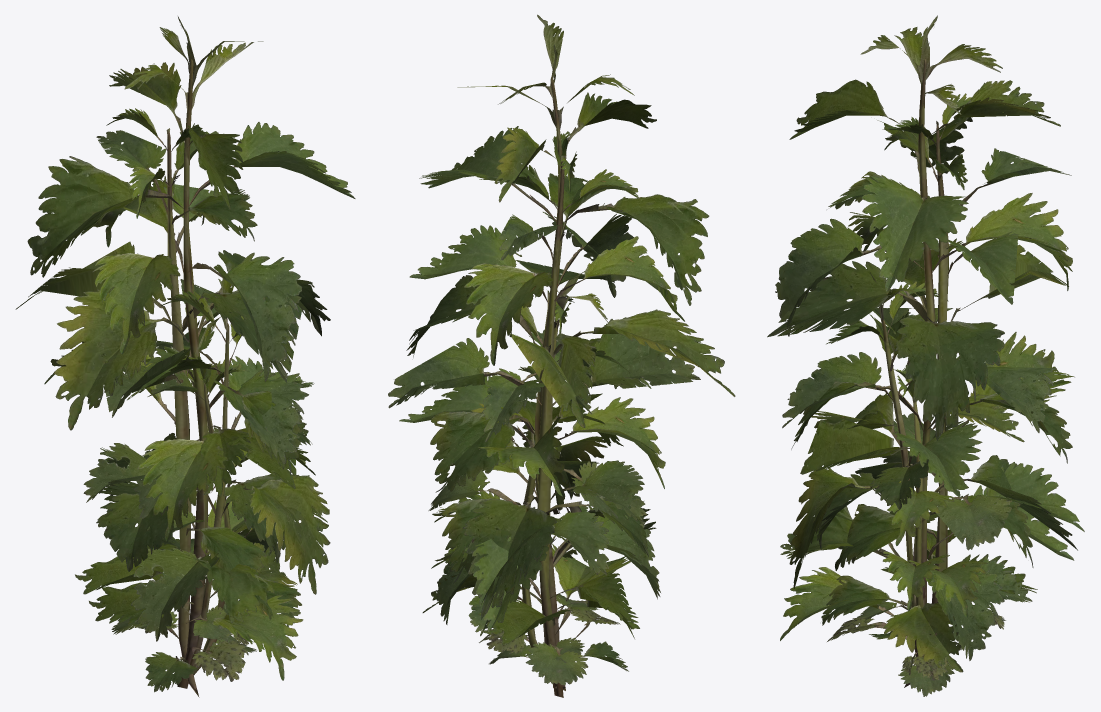
File: nettle_plant.glb
3 renders of one model, left to right at view 1: azimuth 30°, elevation 25°; view 2: azimuth 150°, elevation 25°; view 3: azimuth 270°, elevation 25°, orthographic.
Visible parts, largest first — view 1: nettle_plant_tall_a_lod0, nettle_plant_tall_b_lod0, nettle_plant_medium_a_lod0, nettle_plant_medium_b_lod0; view 2: nettle_plant_tall_a_lod0, nettle_plant_tall_b_lod0, nettle_plant_medium_a_lod0, nettle_plant_medium_b_lod0; view 3: nettle_plant_tall_a_lod0, nettle_plant_tall_b_lod0, nettle_plant_medium_a_lod0, nettle_plant_medium_b_lod0.
Boxes of the visible parts, x1=… form: nettle_plant_tall_a_lod0: x1=27, y1=16, x2=355, y2=688; nettle_plant_tall_b_lod0: x1=15, y1=108, x2=301, y2=697; nettle_plant_medium_a_lod0: x1=106, y1=278, x2=330, y2=692; nettle_plant_medium_b_lod0: x1=133, y1=355, x2=327, y2=680; nettle_plant_tall_a_lod0: x1=406, y1=14, x2=735, y2=697; nettle_plant_tall_b_lod0: x1=388, y1=131, x2=700, y2=690; nettle_plant_medium_a_lod0: x1=399, y1=271, x2=665, y2=688; nettle_plant_medium_b_lod0: x1=432, y1=366, x2=623, y2=662; nettle_plant_tall_a_lod0: x1=775, y1=15, x2=1074, y2=672; nettle_plant_tall_b_lod0: x1=767, y1=93, x2=1084, y2=687; nettle_plant_medium_a_lod0: x1=780, y1=272, x2=1077, y2=696; nettle_plant_medium_b_lod0: x1=815, y1=365, x2=1033, y2=680.
Size of what is drawn, in the model's own units: 0.1031 by 0.2181 by 0.0947.
1 material, 1 textured.
